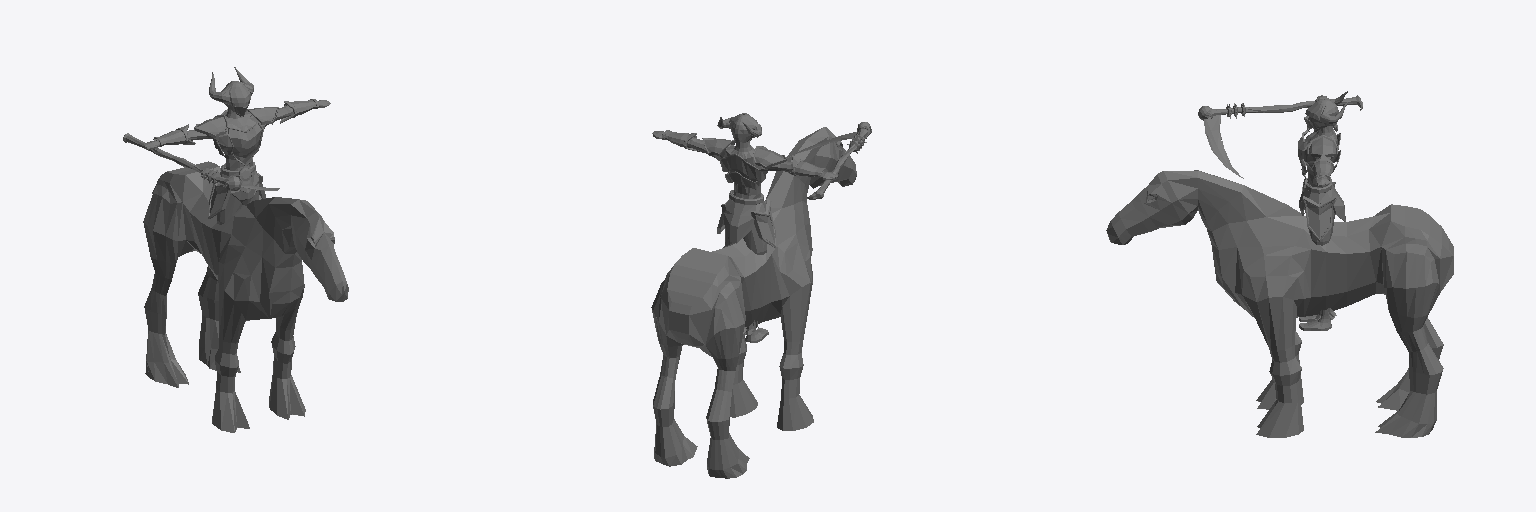
The model's file is HelUv.obj.
3 views of the same model, side by side, from view 1: azimuth 30°, elevation 25°; view 2: azimuth 150°, elevation 25°; view 3: azimuth 270°, elevation 25° (orthographic).
Parts seen in each view (by area): view 1: pasted__pasted__horse, Geo_SelectSet Mesh_body Mesh_GRP Character, helmet, chestplate, staff pasted__scythe scythe, crotchguard crotchguard; view 2: pasted__pasted__horse, Geo_SelectSet Mesh_body Mesh_GRP Character, crotchguard crotchguard, helmet, backplate_high; view 3: pasted__pasted__horse, Geo_SelectSet Mesh_body Mesh_GRP Character, upper_leg_plate_L upper_leg_plate_L, helmet, crotchguard crotchguard, staff pasted__scythe scythe, pasted__scythe scythe blade, shoulderguard_L shoulderguard_L.
Boxes of the visible parts, box(x1,y1,x2,y2) form: pasted__pasted__horse: box(143, 161, 348, 432); Geo_SelectSet Mesh_body Mesh_GRP Character: box(144, 100, 330, 224); helmet: box(209, 67, 253, 116); chestplate: box(228, 120, 263, 165); staff pasted__scythe scythe: box(123, 133, 228, 185); crotchguard crotchguard: box(220, 162, 259, 205); pasted__pasted__horse: box(651, 127, 856, 478); Geo_SelectSet Mesh_body Mesh_GRP Character: box(652, 131, 838, 342); crotchguard crotchguard: box(724, 190, 765, 243); helmet: box(717, 113, 761, 142); backplate_high: box(720, 154, 766, 181); pasted__pasted__horse: box(1106, 170, 1453, 437); Geo_SelectSet Mesh_body Mesh_GRP Character: box(1299, 95, 1337, 330); upper_leg_plate_L upper_leg_plate_L: box(1303, 195, 1335, 241); helmet: box(1304, 91, 1347, 128); crotchguard crotchguard: box(1299, 179, 1345, 221); staff pasted__scythe scythe: box(1210, 95, 1362, 116); pasted__scythe scythe blade: box(1204, 115, 1243, 178); shoulderguard_L shoulderguard_L: box(1307, 135, 1337, 157).
Size of the model in its own units: 5.52 by 9.02 by 8.83.